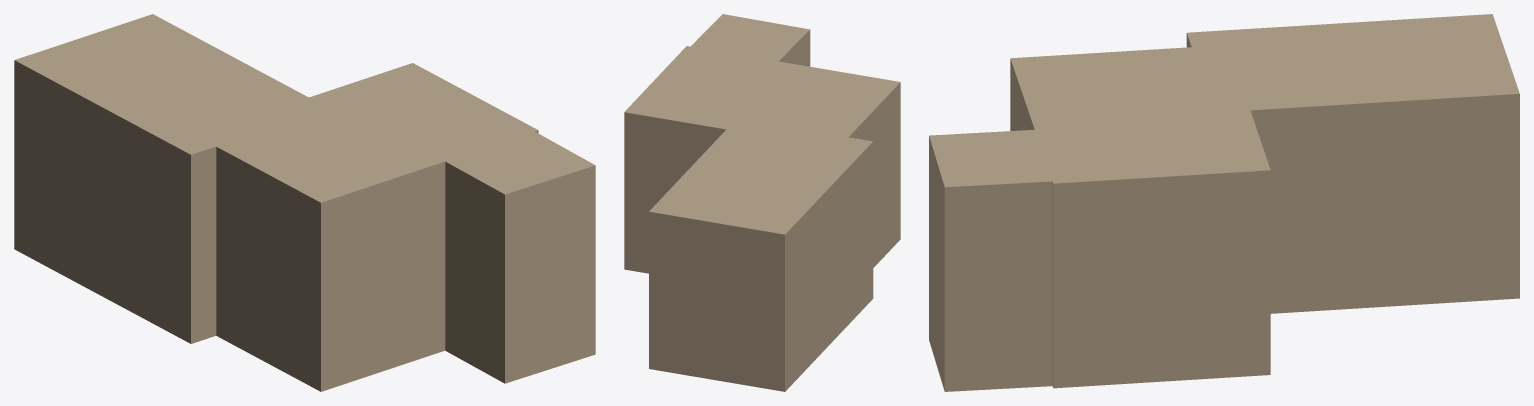
The model's file is bld_107638954.dae.
3 renders of one model, left to right at view 1: azimuth 30°, elevation 25°; view 2: azimuth 150°, elevation 25°; view 3: azimuth 270°, elevation 25°, orthographic. The views are drawn at different scales.
Parts seen in each view (by area): view 1: bld_107638954; view 2: bld_107638954; view 3: bld_107638954.
Boxes of the visible parts, bbox=[...] form: bld_107638954: bbox=[14, 14, 595, 391]; bld_107638954: bbox=[624, 14, 900, 391]; bld_107638954: bbox=[929, 14, 1519, 391].
Size of the model in its own units: 14.52 by 20.93 by 8.
